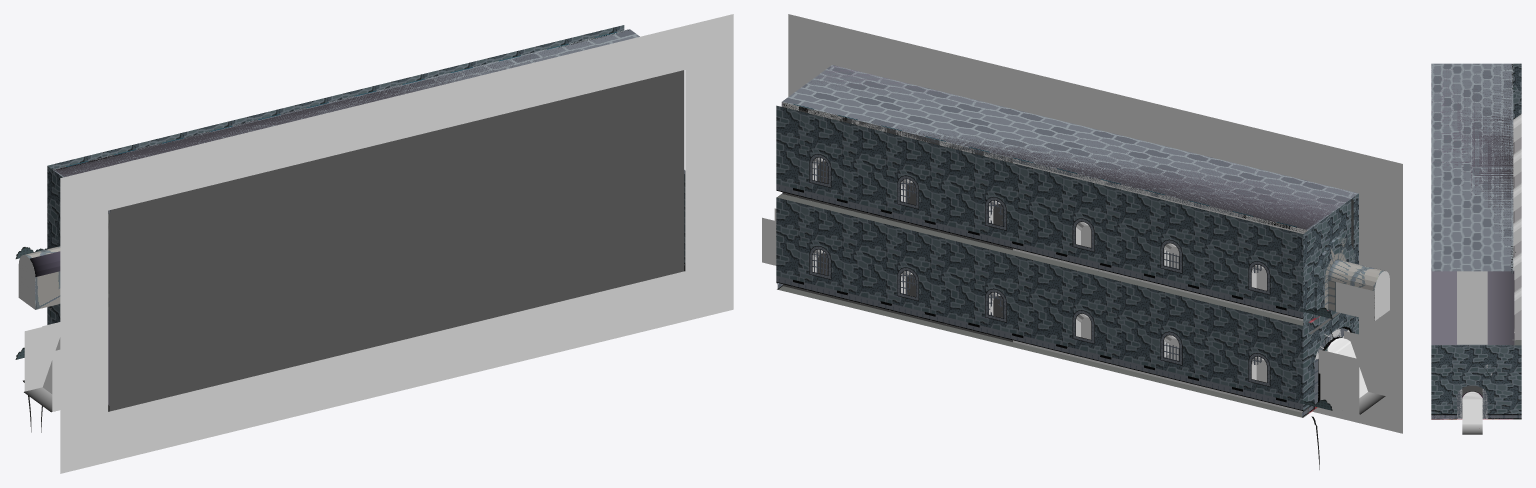
The model's file is gon_02.dae.
3 renders of one model, left to right at view 1: azimuth 30°, elevation 25°; view 2: azimuth 150°, elevation 25°; view 3: azimuth 270°, elevation 25°, orthographic. The views are drawn at different scales.
Parts seen in each view (by area): view 1: a_kabemae, kuro1, a_ten, s_ten, polySurface909_q00067_part0, polySurface409_q00017, kabe_r_012_part0, A_kabe_r_012_part2, kabe_r_012_part1; view 2: polySurface909_q00067_part0, polySurface909_q00040_part0, kuro1, s_ten, a_ten, a_kabeoku, polySurface909_q00040_part2, polySurface909_q00067_part2, kabe_r_012_part0, pCube151_q00045_part0, pCube151_q00046_part0, polySurface409_q00017 (+9 smaller); view 3: s_ten, a_kabeyoko, s_kabeyoko01_part0, a_ten, pCube151_q00046_part0, s_kabeyoko01_part1, polySurface764_q00027, kabe_r_012_part0, polySurface890_q00073, polySurface890_q00072, polySurface890_q00074, pCube151_q00061 (+2 smaller).
Boxes of the visible parts, x1,y1,x2,y2 form: a_kabemae: (109, 70, 684, 411); kuro1: (60, 14, 733, 473); a_ten: (54, 34, 614, 176); s_ten: (53, 29, 639, 177); polySurface909_q00067_part0: (47, 25, 624, 169); polySurface409_q00017: (24, 322, 60, 411); kabe_r_012_part0: (47, 166, 62, 248); A_kabe_r_012_part2: (24, 246, 60, 309); kabe_r_012_part1: (18, 255, 35, 309); polySurface909_q00067_part0: (776, 105, 1303, 311); polySurface909_q00040_part0: (776, 197, 1303, 403); kuro1: (788, 14, 1402, 433); s_ten: (782, 65, 1358, 229); a_ten: (809, 65, 1355, 229); a_kabeoku: (783, 103, 1306, 412); polySurface909_q00040_part2: (776, 246, 1303, 410); polySurface909_q00067_part2: (776, 154, 1303, 318); kabe_r_012_part0: (1303, 193, 1358, 325); pCube151_q00045_part0: (777, 286, 1308, 417); pCube151_q00046_part0: (777, 193, 1303, 325); polySurface409_q00017: (1318, 331, 1384, 414); s_ten: (1431, 63, 1513, 271); a_kabeyoko: (1431, 270, 1514, 419); s_kabeyoko01_part0: (1431, 345, 1521, 413); a_ten: (1431, 65, 1513, 268); pCube151_q00046_part0: (1512, 137, 1521, 345); s_kabeyoko01_part1: (1431, 388, 1521, 419); polySurface764_q00027: (1462, 391, 1482, 424); kabe_r_012_part0: (1513, 63, 1521, 119); polySurface890_q00073: (1513, 183, 1521, 246); polySurface890_q00072: (1513, 114, 1521, 176); polySurface890_q00074: (1513, 252, 1521, 314); pCube151_q00061: (1511, 64, 1513, 273).
Size of the model in its own units: 141 by 60.75 by 22.
